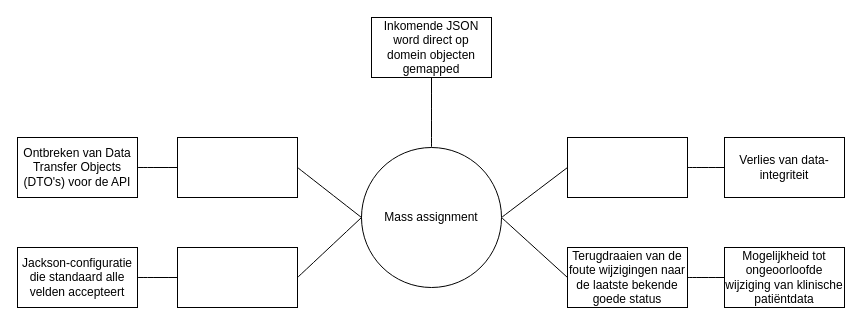
Some shapes in this 862 by 325 pixel diagram are drawn without their labels. The centre of each missing label's shape, as x and y in pixels:
Configureer de JSON-serializer om onbekende velden te negeren/weigeren: (237,277)
Database recovery: (627,167)
Definieer een expliciete lijst van toegestane velden: (237,167)
